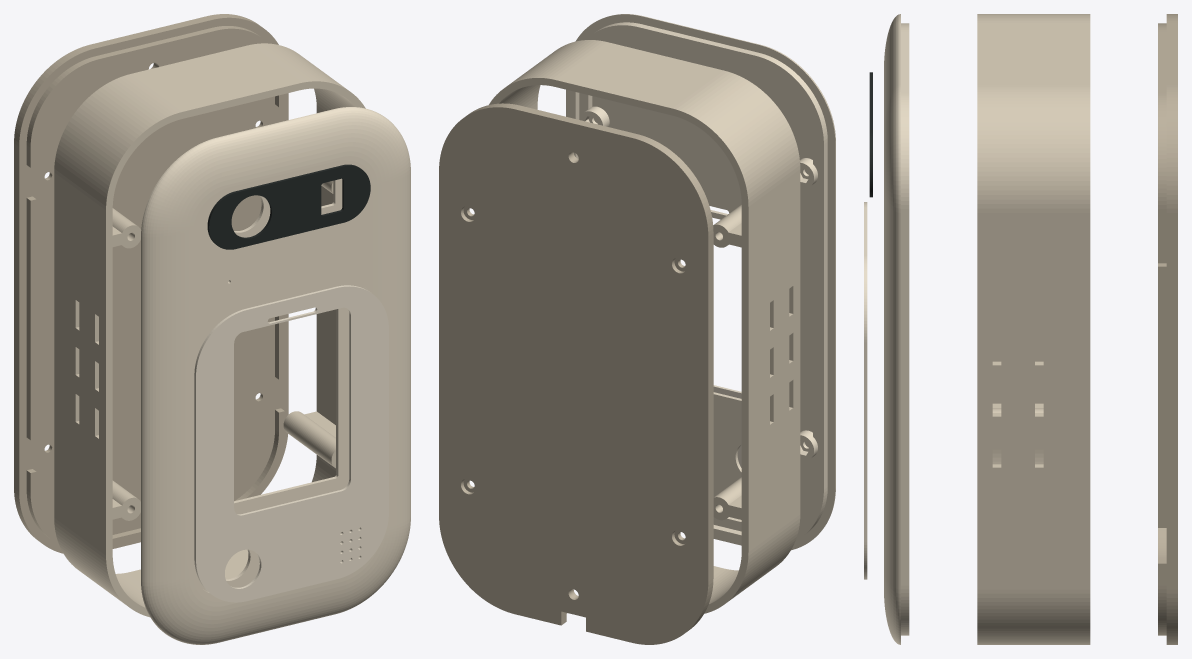
File: rounded_enclosure_exploded.obj
3 renders of one model, left to right at view 1: azimuth 30°, elevation 25°; view 2: azimuth 150°, elevation 25°; view 3: azimuth 270°, elevation 25°, orthographic. The views are drawn at different scales.
Parts seen in each view (by area): view 1: 01_front_fascia, 03_rear_plate, 02_main_body, 05_control_panel, 04_black_visor; view 2: 03_rear_plate, 02_main_body, 01_front_fascia; view 3: 02_main_body, 01_front_fascia, 03_rear_plate, 05_control_panel, 04_black_visor.
Boxes of the visible parts, bbox=[...] form: 01_front_fascia: bbox=[141, 107, 410, 644]; 03_rear_plate: bbox=[14, 14, 288, 553]; 02_main_body: bbox=[54, 43, 365, 617]; 05_control_panel: bbox=[194, 285, 388, 602]; 04_black_visor: bbox=[207, 164, 370, 249]; 03_rear_plate: bbox=[439, 103, 713, 644]; 02_main_body: bbox=[489, 40, 800, 613]; 01_front_fascia: bbox=[566, 14, 835, 550]; 02_main_body: bbox=[977, 14, 1090, 644]; 01_front_fascia: bbox=[884, 14, 909, 644]; 03_rear_plate: bbox=[1158, 14, 1177, 644]; 05_control_panel: bbox=[864, 202, 867, 579]; 04_black_visor: bbox=[869, 72, 872, 197].
Bounding box in the file's own units: 120 × 215 × 111.
